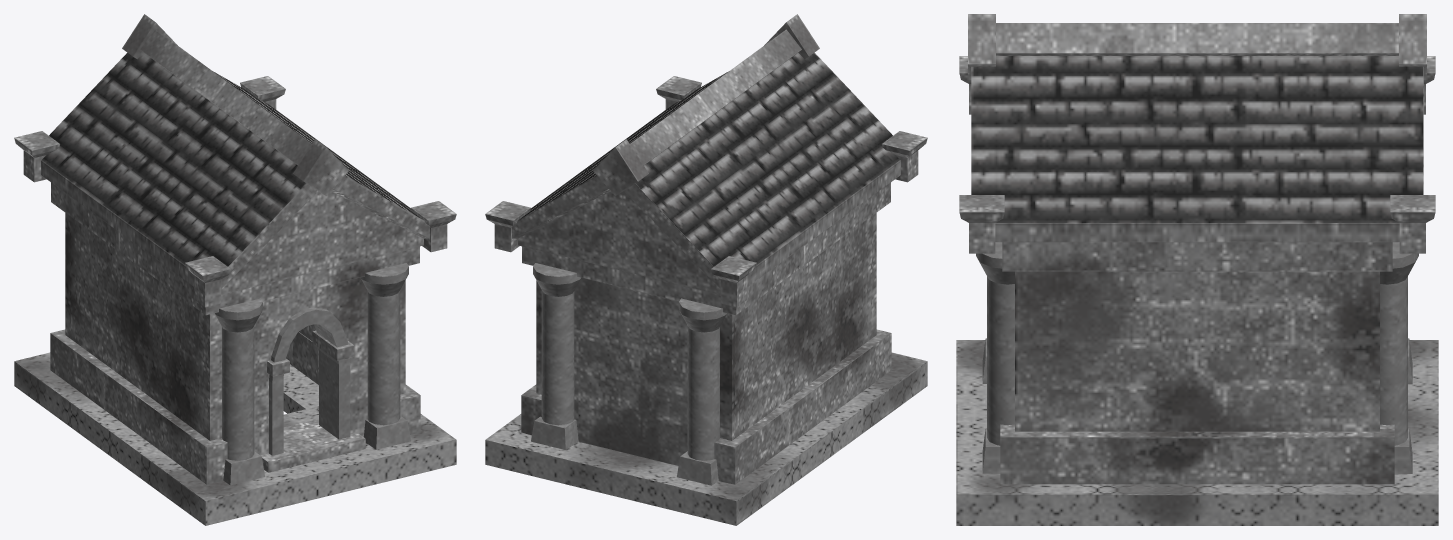
File: StarterChapel002.fbx
3 views of the same model, side by side, from view 1: azimuth 30°, elevation 25°; view 2: azimuth 150°, elevation 25°; view 3: azimuth 270°, elevation 25° (orthographic). The views are drawn at different scales.
Parts seen in each view (by area): view 1: Cube.006, Cube.004, Cube.002, Cylinder, Cube.012, Cube.003, Cube, Cube.010, Cube.007, Cube.011, Cube.008, Cube.001 (+1 smaller); view 2: Cube.006, Cube.004, Cube.002, Cylinder, Cube.012, Cube.003, Cube.010, Cube.007, Cube.008, Cube.001; view 3: Cube.006, Cube.004, Cube.002, Cube.012, Cube.010, Cube.003, Cylinder, Cube.007, Cube.008, Cube.001.
Part boxes in pixels (x1,y1,x2,y2): Cube.006: (41,52,429,294); Cube.004: (65,213,405,455); Cube.002: (14,352,456,525); Cylinder: (214,263,408,460); Cube.012: (50,329,420,484); Cube.003: (51,182,419,315); Cube: (269,307,350,455); Cube.010: (140,29,311,165); Cube.007: (14,76,456,307); Cube.011: (260,419,365,472); Cube.008: (122,14,348,195); Cube.001: (223,416,410,485); Cube.006: (512,52,900,294); Cube.004: (536,213,876,465); Cube.002: (485,352,927,525); Cylinder: (533,263,727,460); Cube.012: (521,329,891,484); Cube.003: (522,182,890,315); Cube.010: (630,29,801,165); Cube.007: (485,76,927,307); Cube.008: (593,14,819,195); Cube.001: (531,416,718,485); Cube.006: (971,56,1423,242); Cube.004: (1015,271,1379,431); Cube.002: (956,340,1438,525); Cube.012: (1000,424,1394,484); Cube.010: (996,23,1398,55); Cube.003: (1002,242,1392,271); Cylinder: (976,242,1418,445); Cube.007: (959,56,1435,253); Cube.008: (968,14,1426,75); Cube.001: (982,338,1412,474).
Bounding box in the file's own units: 995 × 1291 × 1298.
